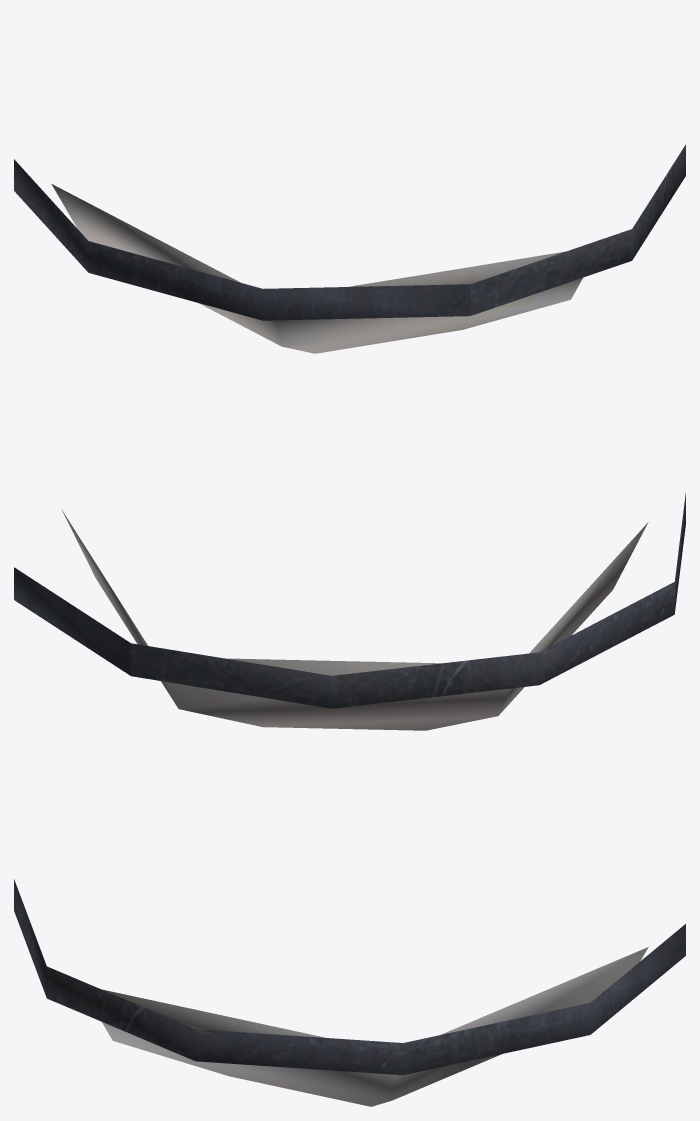
Rendered from Prop_Xdd01_lod1.glb.
3 renders of one model, top to bottom at view 1: azimuth 30°, elevation 25°; view 2: azimuth 150°, elevation 25°; view 3: azimuth 270°, elevation 25°, orthographic. The views are drawn at different scales.
Visible parts, largest first — view 1: xiutz_xdd_01_lod1; view 2: xiutz_xdd_01_lod1; view 3: xiutz_xdd_01_lod1.
Boxes of the visible parts, x1=… form: xiutz_xdd_01_lod1: x1=14, y1=144, x2=685, y2=353; xiutz_xdd_01_lod1: x1=14, y1=492, x2=685, y2=730; xiutz_xdd_01_lod1: x1=14, y1=879, x2=685, y2=1106.
Bounding box in the file's own units: 0.7938 × 0.2164 × 0.7938.
Materials: 1 (1 with a texture image).
